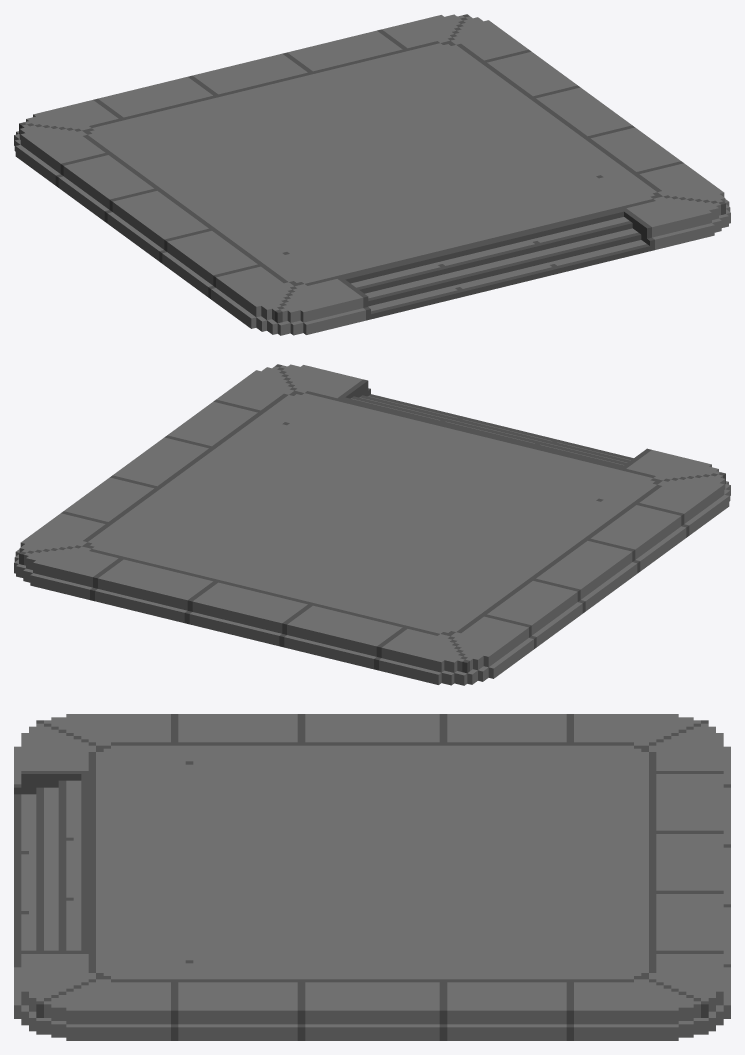
Rendered from baseOne.glb.
3 views of the same model, one above another, from view 1: azimuth 30°, elevation 25°; view 2: azimuth 150°, elevation 25°; view 3: azimuth 270°, elevation 25° (orthographic). The views are drawn at different scales.
Visible parts, largest first — view 1: ObjObject; view 2: ObjObject; view 3: ObjObject.
Boxes of the visible parts, <box> form: ObjObject: <box>14,14,730,335</box>; ObjObject: <box>14,364,730,685</box>; ObjObject: <box>14,714,730,1040</box>.
Bounding box in the file's own units: 9.6 × 0.4 × 9.6.
Materials: 1 (1 with a texture image).
